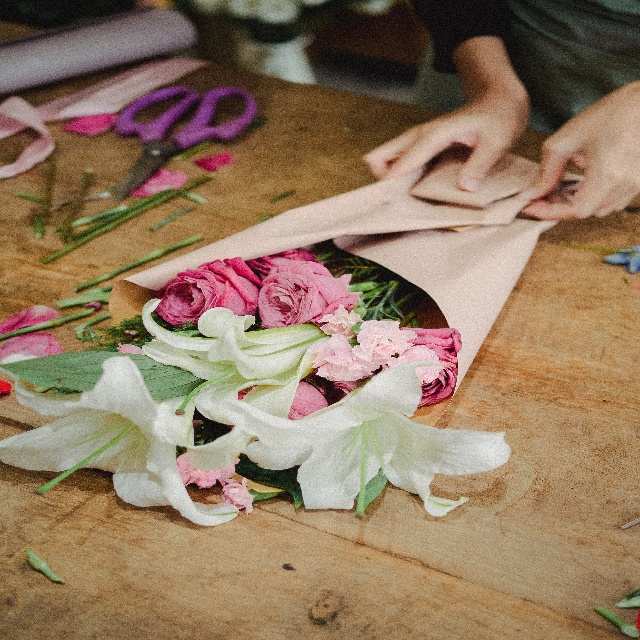Sin_guantes: (364, 82, 530, 199), (511, 93, 640, 230)
